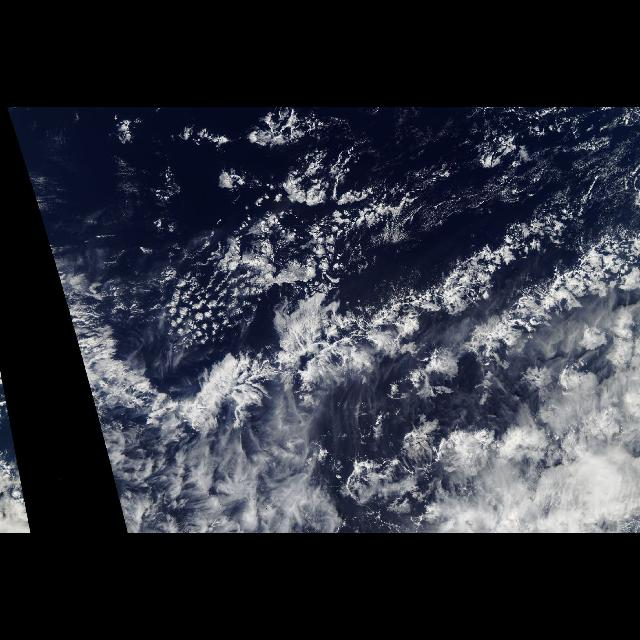Fish: (55, 188, 639, 468)
Flower: (143, 157, 443, 347)
Gravel: (157, 192, 407, 358)
